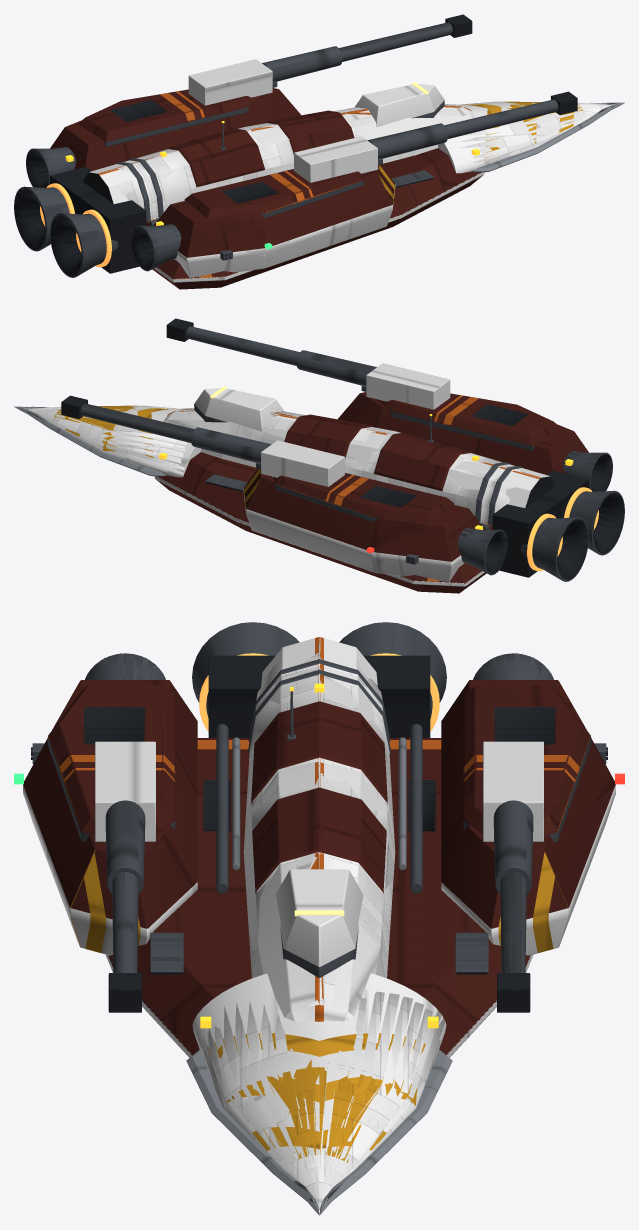
File: ashline_lode.glb
The picture shows the model from 3 angles, top to bottom: view 1: azimuth 30°, elevation 25°; view 2: azimuth 150°, elevation 25°; view 3: azimuth 270°, elevation 25°; orthographic projection. The views are drawn at different scales.
Visible parts, largest first — view 1: LOD0_Hull, LOD0_Armor, LOD0_Mechanical, LOD0_MechanicalDark, LOD2_Armor, LOD2_MechanicalDark, LOD1_Armor, LOD1_Hull, LOD2_Mechanical, LOD1_Mechanical, LOD0_Livery, LOD0_BrushedMetal (+4 smaller); view 2: LOD0_Hull, LOD0_Armor, LOD0_Mechanical, LOD0_MechanicalDark, LOD1_Armor, LOD2_MechanicalDark, LOD2_Armor, LOD1_Hull, LOD1_Mechanical, LOD2_Mechanical, LOD0_Livery, LOD0_BrushedMetal (+4 smaller); view 3: LOD0_Hull, LOD0_Armor, LOD0_Mechanical, LOD1_Armor, LOD2_Armor, LOD0_MechanicalDark, LOD0_BrushedMetal, LOD0_Warning, LOD2_MechanicalDark, LOD2_Warning, LOD1_Hull, LOD1_Mechanical (+5 smaller).
Boxes of the visible parts, box(x1,y1,x2,y2) form: LOD0_Hull: box(50, 88, 482, 289); LOD0_Armor: box(89, 59, 614, 282); LOD0_Mechanical: box(14, 22, 558, 277); LOD0_MechanicalDark: box(14, 14, 577, 275); LOD2_Armor: box(98, 91, 610, 282); LOD2_MechanicalDark: box(14, 100, 278, 275); LOD1_Armor: box(108, 71, 610, 282); LOD1_Hull: box(79, 88, 480, 289); LOD2_Mechanical: box(14, 24, 554, 277); LOD1_Mechanical: box(14, 55, 447, 276); LOD0_Livery: box(98, 91, 471, 277); LOD0_BrushedMetal: box(156, 102, 624, 219); LOD0_Hull: box(156, 393, 588, 593); LOD0_Armor: box(24, 363, 549, 586); LOD0_Mechanical: box(80, 326, 624, 581); LOD0_MechanicalDark: box(61, 318, 624, 579); LOD1_Armor: box(28, 375, 530, 586); LOD2_MechanicalDark: box(184, 329, 624, 579); LOD2_Armor: box(26, 395, 540, 586); LOD1_Hull: box(158, 392, 572, 593); LOD1_Mechanical: box(191, 361, 620, 580); LOD2_Mechanical: box(82, 332, 624, 581); LOD0_Livery: box(167, 395, 540, 581); LOD0_BrushedMetal: box(14, 406, 482, 523); LOD0_Hull: box(23, 680, 615, 1054); LOD0_Armor: box(23, 638, 615, 1209); LOD0_Mechanical: box(32, 622, 606, 977); LOD1_Armor: box(70, 637, 568, 1203); LOD2_Armor: box(70, 637, 568, 1204); LOD0_MechanicalDark: box(31, 655, 607, 1012); LOD0_BrushedMetal: box(186, 737, 452, 1215); LOD0_Warning: box(84, 852, 554, 1150); LOD2_MechanicalDark: box(83, 688, 555, 1011); LOD2_Warning: box(70, 849, 375, 1159); LOD1_Hull: box(57, 680, 614, 1054); LOD1_Mechanical: box(49, 622, 590, 967).
Size of what is drawn, in the model's own units: 22.12 by 4.02 by 11.02.
19 materials, 14 textured.
